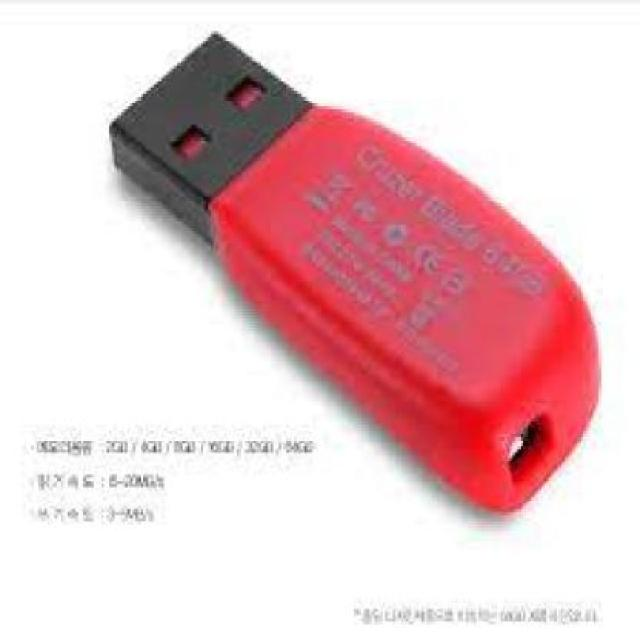Flashdisk: (105, 25, 603, 518)
